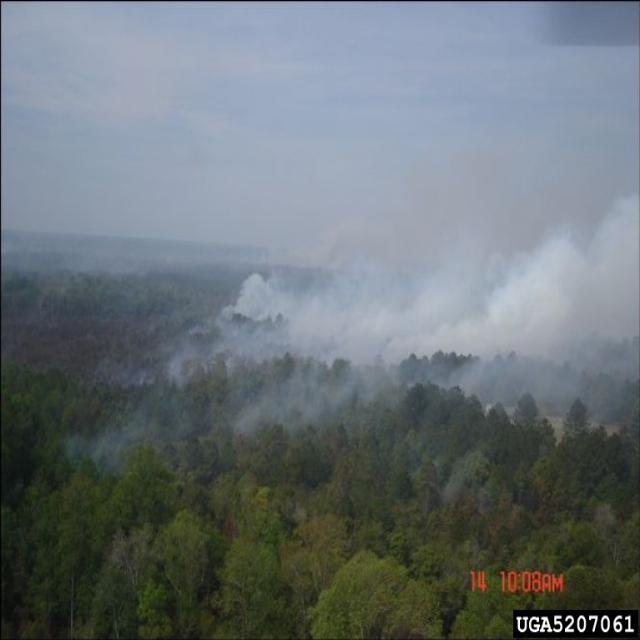Smoke: (165, 193, 640, 439)
